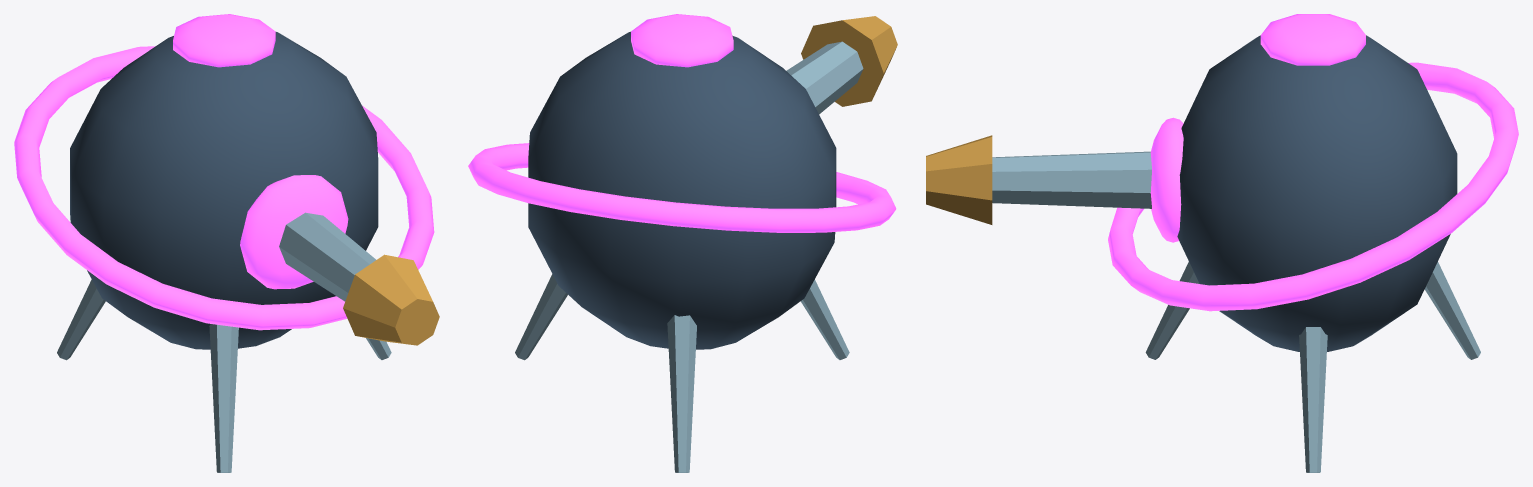
The model's file is enemy-shooter.glb.
3 views of the same model, side by side, from view 1: azimuth 30°, elevation 25°; view 2: azimuth 150°, elevation 25°; view 3: azimuth 270°, elevation 25° (orthographic).
Visible parts, largest first — view 1: ShooterBody, ShooterOrbit, ShooterCore, ShooterMuzzle, ShooterBarrel, ShooterTopCore, ShooterFin2, ShooterFin1; view 2: ShooterBody, ShooterOrbit, ShooterTopCore, ShooterMuzzle, ShooterFin1, ShooterBarrel, ShooterFin0, ShooterFin2; view 3: ShooterBody, ShooterOrbit, ShooterBarrel, ShooterMuzzle, ShooterTopCore, ShooterCore, ShooterFin0, ShooterFin1, ShooterFin2.
Part boxes in pixels (bbox=[...]): ShooterBody: bbox=[70, 32, 378, 349]; ShooterOrbit: bbox=[14, 46, 434, 330]; ShooterCore: bbox=[240, 175, 348, 289]; ShooterMuzzle: bbox=[343, 254, 439, 345]; ShooterBarrel: bbox=[279, 212, 375, 301]; ShooterTopCore: bbox=[173, 14, 275, 67]; ShooterFin2: bbox=[209, 324, 238, 472]; ShooterFin1: bbox=[57, 279, 105, 360]; ShooterBody: bbox=[528, 31, 836, 349]; ShooterOrbit: bbox=[468, 143, 896, 232]; ShooterTopCore: bbox=[631, 14, 733, 67]; ShooterMuzzle: bbox=[801, 16, 897, 106]; ShooterFin1: bbox=[667, 315, 696, 472]; ShooterBarrel: bbox=[786, 41, 863, 114]; ShooterFin0: bbox=[515, 274, 567, 360]; ShooterFin2: bbox=[800, 279, 849, 359]; ShooterBody: bbox=[1177, 35, 1457, 351]; ShooterOrbit: bbox=[1108, 62, 1518, 311]; ShooterBarrel: bbox=[992, 151, 1151, 208]; ShooterMuzzle: bbox=[926, 135, 992, 224]; ShooterTopCore: bbox=[1260, 14, 1365, 65]; ShooterCore: bbox=[1150, 117, 1183, 242]; ShooterFin0: bbox=[1299, 327, 1327, 472]; ShooterFin1: bbox=[1424, 262, 1480, 359]; ShooterFin2: bbox=[1145, 262, 1199, 359].
Bounding box in the file's own units: 1.17 × 1.11 × 1.61.
